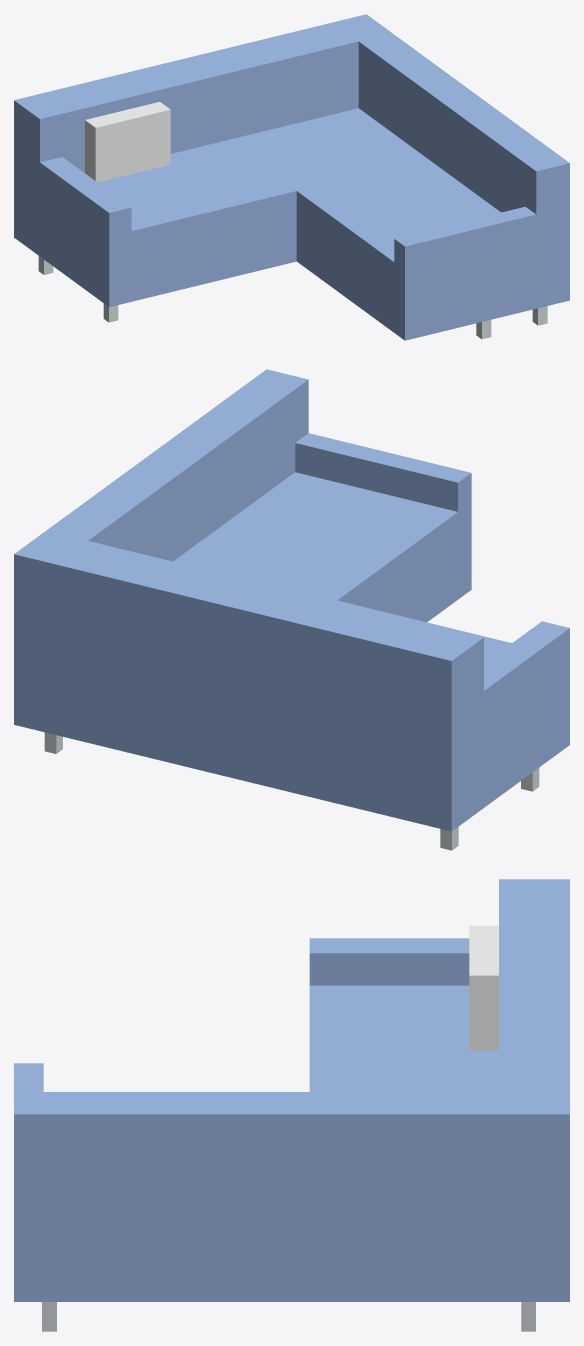
File: sectionalModular.glb
3 views of the same model, one above another, from view 1: azimuth 30°, elevation 25°; view 2: azimuth 150°, elevation 25°; view 3: azimuth 270°, elevation 25° (orthographic). The views are drawn at different scales.
Visible parts, largest first — view 1: sectionalModular; view 2: sectionalModular; view 3: sectionalModular.
Boxes of the visible parts, x1,y1,x2,y2 form: sectionalModular: (14,14,569,340); sectionalModular: (14,369,569,850); sectionalModular: (14,879,569,1331).
Bounding box in the file's own units: 0.94 × 0.42 × 0.94.
